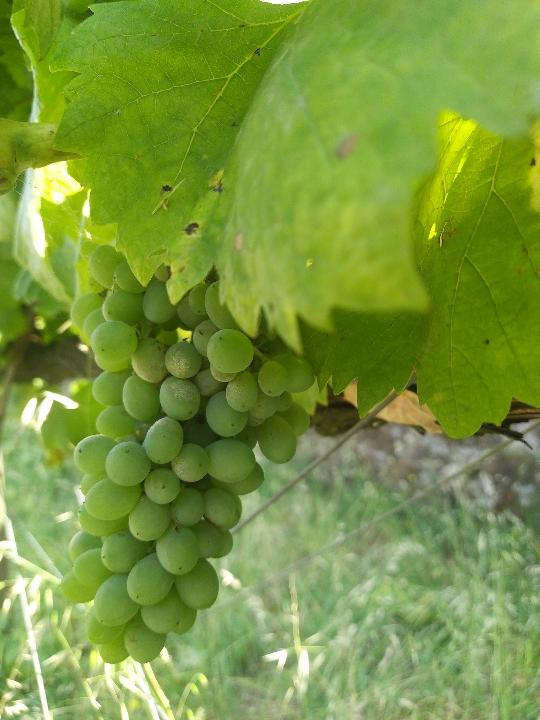grape: (53, 241, 322, 672)
